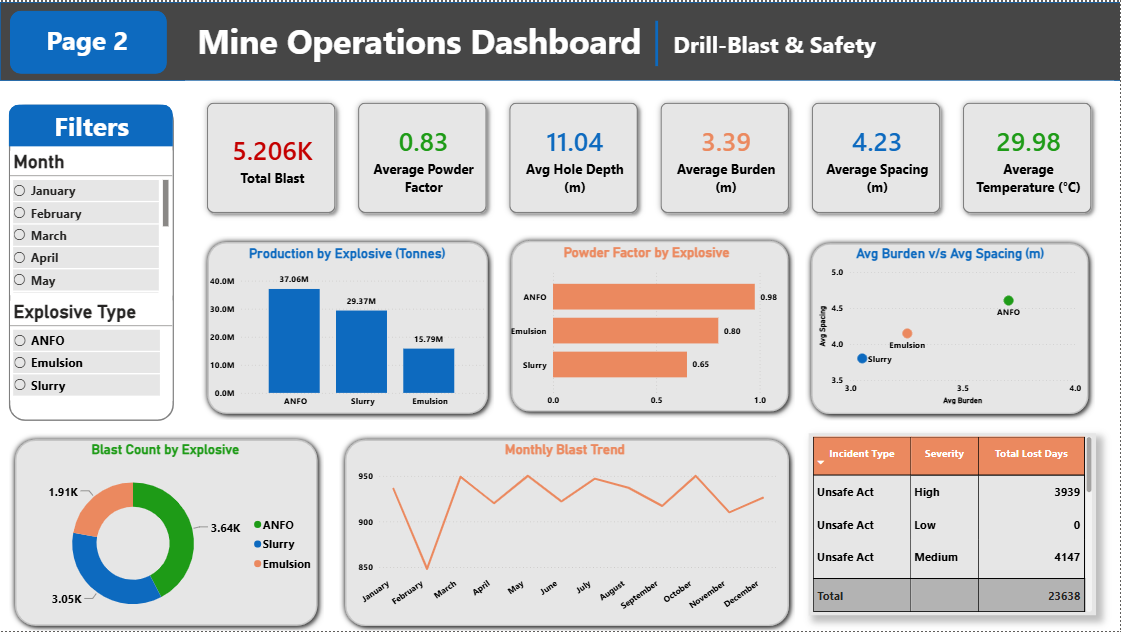

The dashboard page shown, as its layout file describes it:
{"tool":"powerbi","page":{"name":" Page 2","canvas":[1600,900],"ordinal":1},"visuals":[{"type":"shape","box":[0,0,1800,112.5],"z":0},{"type":"shape","box":[14,12,224,90],"z":1000},{"type":"textbox","box":[10,24,228,78],"z":2000},{"type":"textbox","box":[277.5,17.5,651.2,95],"z":3000},{"type":"shape","box":[762.5,27.5,351.2,65],"z":4000},{"type":"textbox","box":[956.2,33.8,451.2,80],"z":5000},{"type":"cardVisual","fields":{"Data":["Count(public mine.blast_id)","public mine.Average Powder Factor","Avg(public mine.hole_depth_m)","Avg(public mine.burden)","Avg(public mine.spacing)","Avg(public mine.temperature_c)"]},"box":[263.8,112.5,1327.5,220],"z":6000},{"type":"shape","box":[286.7,333.3,418.3,263.3],"z":7000},{"type":"columnChart","title":"Production by Explosive (Tonnes)","fields":{"Category":["public mine.explosive_type"],"Y":["public mine.Total Production"]},"box":[294,348,402,240],"z":8000},{"type":"shape","box":[1150,336,414,262],"z":9000},{"type":"shape","box":[722,332,414,262],"z":10000},{"type":"clusteredBarChart","title":"Powder Factor by Explosive","fields":{"Y":["Avg(public mine.powder_factor)"],"Category":["public mine.explosive_type"]},"box":[723.8,346.2,401.2,240],"z":11000},{"type":"shape","box":[12,616,450,284],"z":12000},{"type":"scatterChart","title":"Avg Burden v/s Avg Spacing (m)","fields":{"X":["public mine.burden"],"Y":["Avg(public mine.spacing)"],"Category":["public mine.explosive_type"]},"box":[1164.3,348.6,385.7,231.4],"z":13000},{"type":"tableEx","fields":{"Values":["public mine.incident_type","public mine.severity","Sum(public mine.lost_days)"]},"box":[1156,616,410,260],"z":14000},{"type":"donutChart","title":"Blast Count by Explosive","fields":{"Y":["Count(public mine.blast_id)"],"Category":["public mine.explosive_type"]},"box":[14,628,444,268],"z":15000},{"type":"shape","box":[483.3,615.6,652.2,284.4],"z":16000},{"type":"lineChart","title":"Monthly Blast Trend","fields":{"Y":["Count(public mine.blast_id)"],"Category":["public mine.date.Variation.Date Hierarchy.Month"]},"box":[500,628.6,614.3,260],"z":17000},{"type":"shape","box":[12,146,236,452],"z":18000},{"type":"shape","box":[13.3,146.1,234.4,60],"z":19000},{"type":"listSlicer","title":"     Month","fields":{"Values":["public mine.date.Variation.Date Hierarchy.Month"]},"box":[14.4,213.3,231.7,206.7],"z":20000},{"type":"listSlicer","title":"Explosive Type","fields":{"Values":["public mine.explosive_type"]},"box":[14.2,427.4,232.1,142.6],"z":21000},{"type":"textbox","box":[14.4,145.6,233.3,60],"z":22000}]}

Visuals, with their boxes in screenshot pixels (x1, y1, x2, y2), scaled from the page's 1600x900 canvas onto the 1121x632 screenshot:
shape: region(0, 0, 1120, 79)
shape: region(10, 8, 167, 72)
textbox: region(7, 17, 167, 72)
textbox: region(194, 12, 651, 79)
shape: region(534, 19, 780, 65)
textbox: region(670, 24, 986, 80)
cardVisual - Count(public mine.blast_id) x public mine.Average Powder Factor: region(185, 79, 1115, 233)
shape: region(201, 234, 494, 419)
"Production by Explosive (Tonnes)" columnChart: region(206, 244, 488, 413)
shape: region(806, 236, 1096, 420)
shape: region(506, 233, 796, 417)
"Powder Factor by Explosive" clusteredBarChart: region(507, 243, 788, 412)
shape: region(8, 433, 324, 631)
"Avg Burden v/s Avg Spacing (m)" scatterChart: region(816, 245, 1086, 407)
tableEx - public mine.incident_type x public mine.severity: region(810, 433, 1097, 615)
"Blast Count by Explosive" donutChart: region(10, 441, 321, 629)
shape: region(339, 432, 796, 631)
"Monthly Blast Trend" lineChart: region(350, 441, 781, 624)
shape: region(8, 103, 174, 420)
shape: region(9, 103, 174, 145)
"     Month" listSlicer: region(10, 150, 172, 295)
"Explosive Type" listSlicer: region(10, 300, 173, 400)
textbox: region(10, 102, 174, 144)
